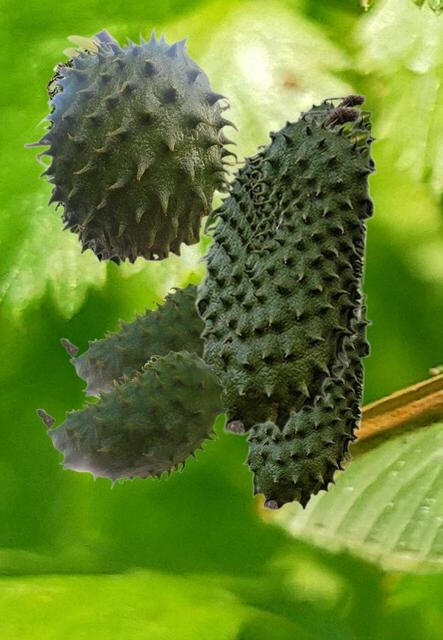guyabano: (193, 105, 376, 435), (23, 25, 252, 265), (241, 280, 371, 510), (36, 350, 228, 488), (42, 49, 122, 266), (60, 282, 203, 398), (280, 93, 376, 237)
